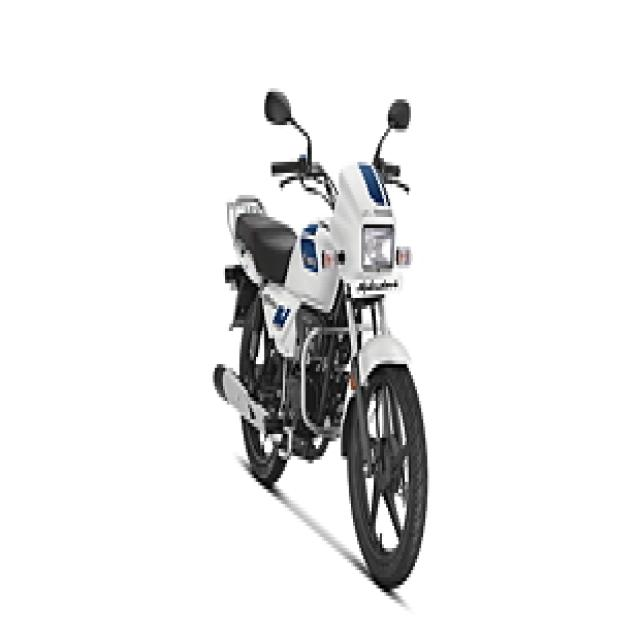Bike: (211, 64, 442, 598)
